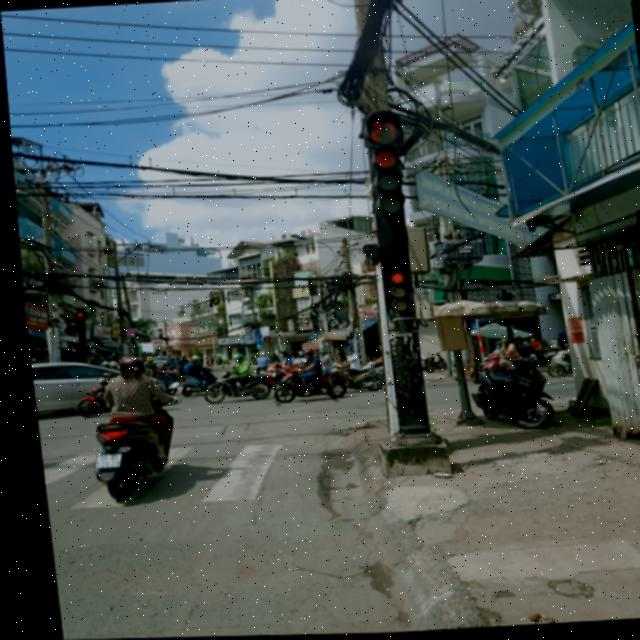Red: (363, 148, 409, 222), (371, 265, 410, 322)
